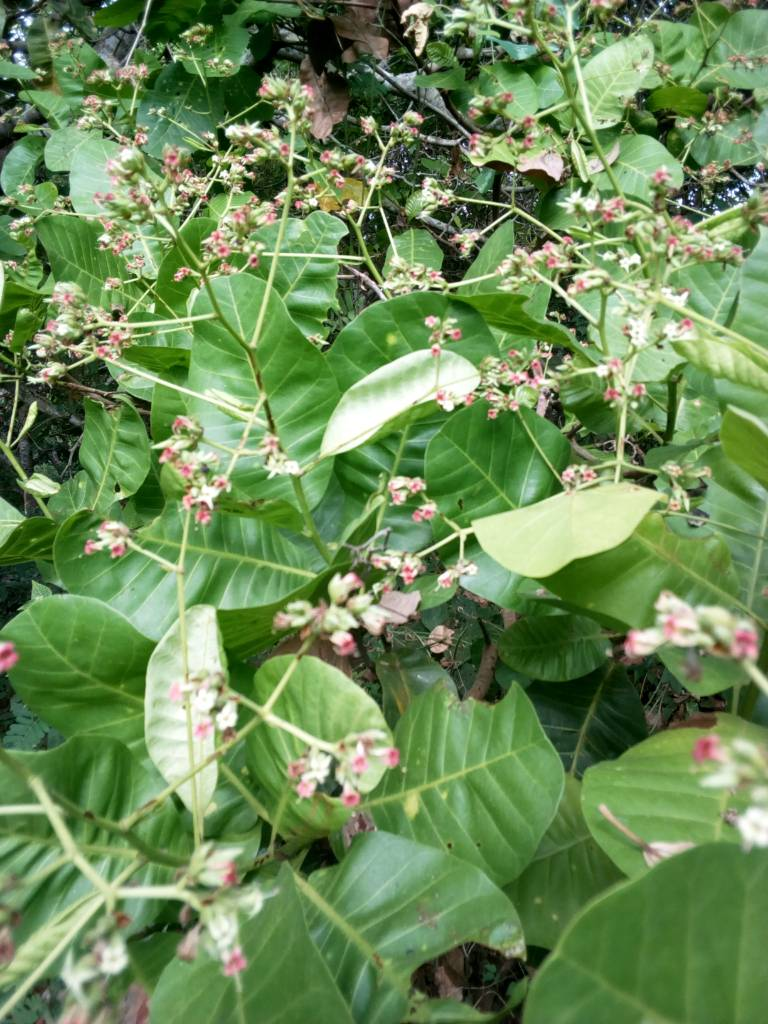Anoplonemis curvipes: (363, 907, 527, 1024), (419, 677, 530, 786)
